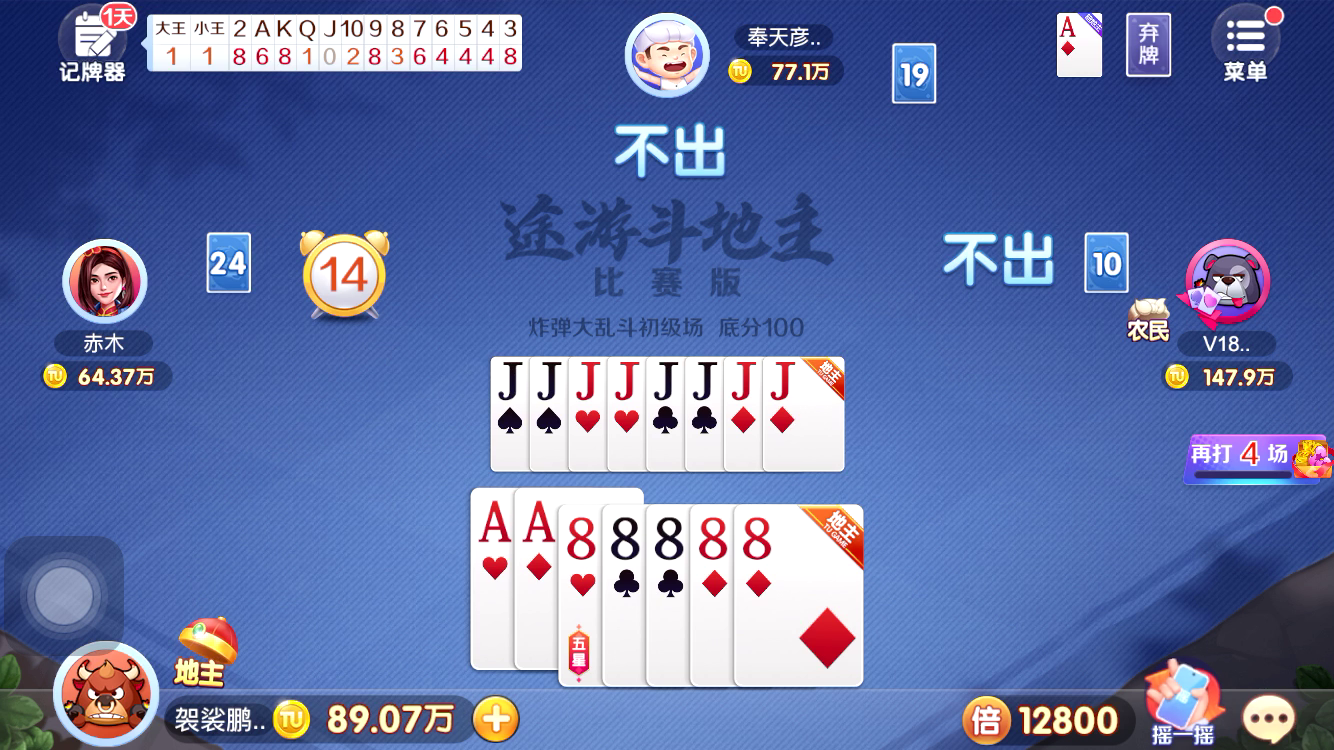A: (473, 492, 513, 549), (518, 497, 557, 551), (1056, 12, 1084, 42)
J: (763, 356, 808, 406), (724, 357, 761, 407), (491, 358, 526, 408), (569, 357, 604, 405), (530, 358, 564, 407), (608, 357, 642, 405), (687, 359, 720, 408), (648, 358, 680, 408)
eight: (738, 512, 782, 567), (650, 511, 689, 568), (693, 513, 733, 568), (606, 512, 644, 569), (561, 512, 600, 566)
